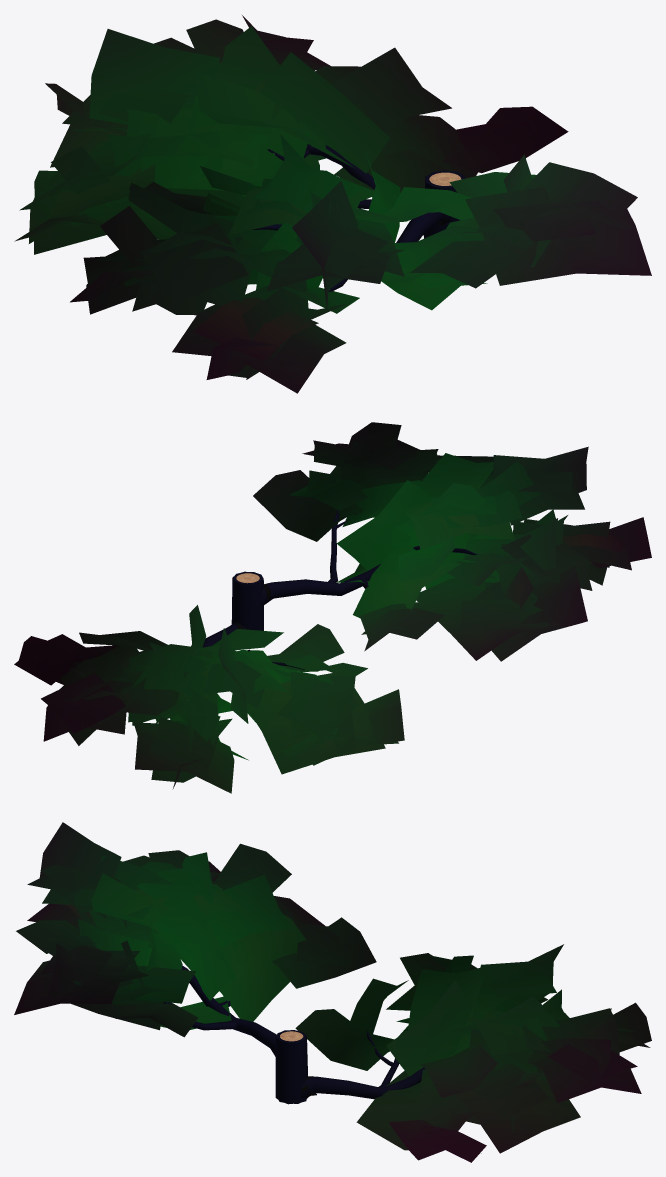
The model's file is obj_harvests_trees_pine02_p08.fbx.
The picture shows the model from 3 angles, top to bottom: view 1: azimuth 30°, elevation 25°; view 2: azimuth 150°, elevation 25°; view 3: azimuth 270°, elevation 25°; orthographic projection. The views are drawn at different scales.
Parts seen in each view (by area): view 1: chunk08; view 2: chunk08; view 3: chunk08.
Part boxes in pixels (x1,y1,x2,y2): chunk08: (14, 15, 651, 393); chunk08: (14, 422, 651, 793); chunk08: (14, 822, 651, 1162).
Size of the model in its own units: 63.3 by 24.63 by 75.64.
